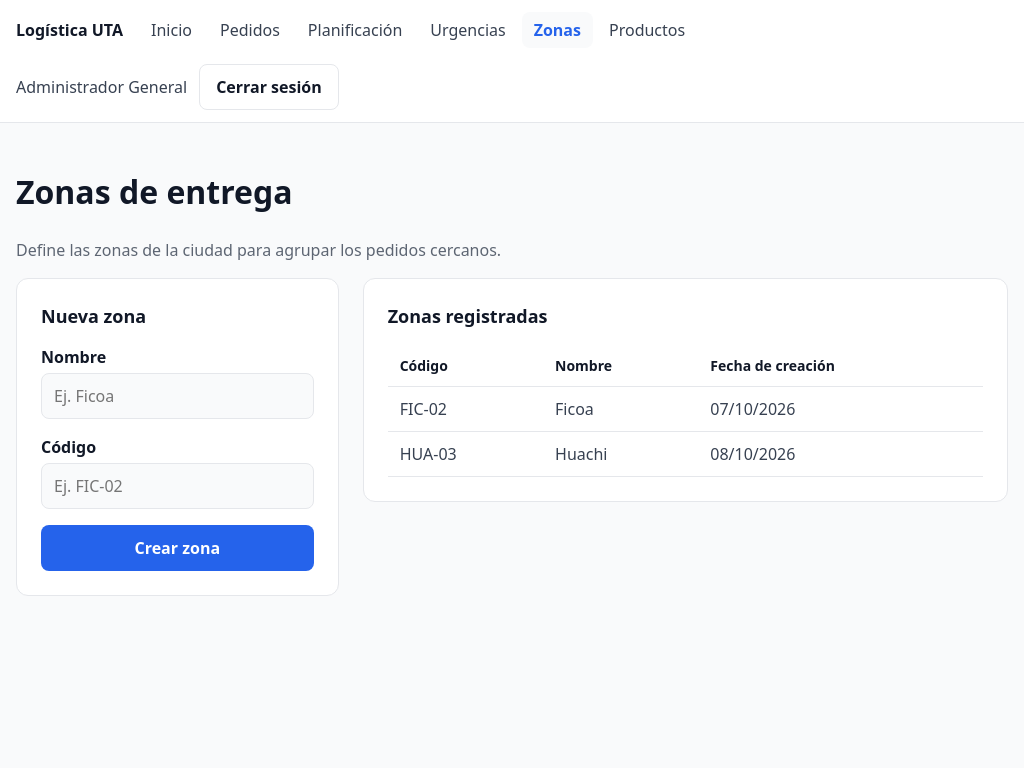
Test: ZonesPage › muestra el error del backend cuando la zona ya existe
Type " Centro " into the field labelled "Nombre" at (177, 396), box top-left (41, 373), bottom-right (314, 419)
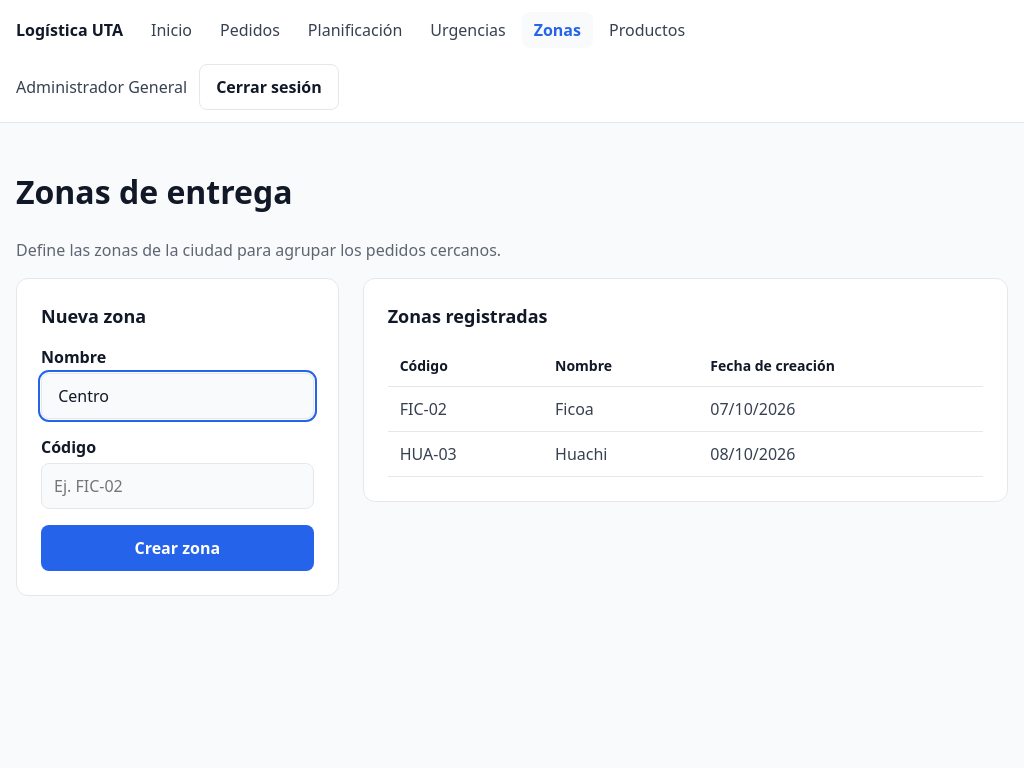
Type "CEN-01" into the field labelled "Código" at (177, 486), box top-left (41, 463), bottom-right (314, 509)
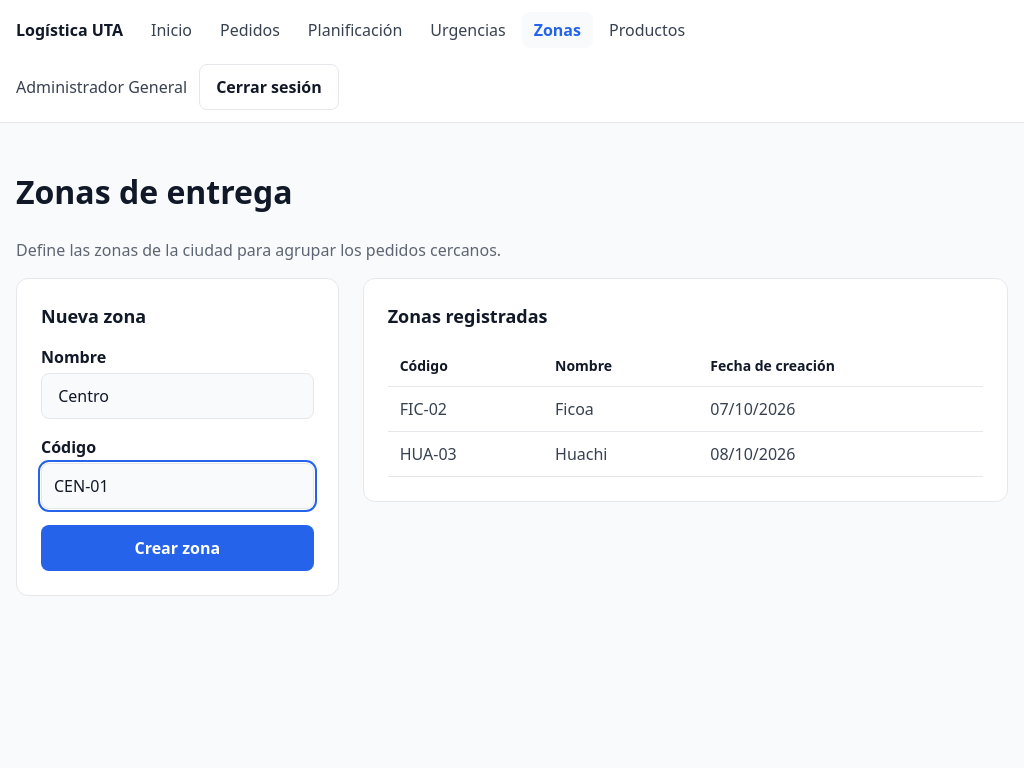
Click the button "Crear zona" at (177, 548), box top-left (41, 525), bottom-right (314, 571)
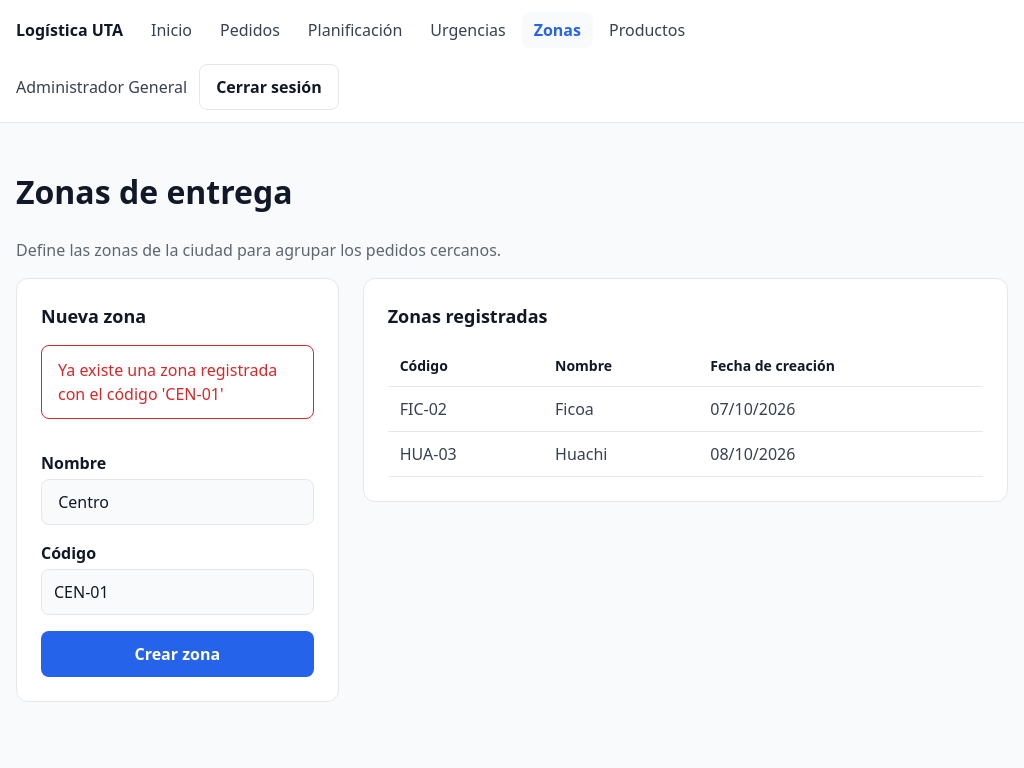
Expected: the message reads "Ya existe una zona registrada con el código 'CEN-01'", top-left (58, 359), bottom-right (277, 405)
